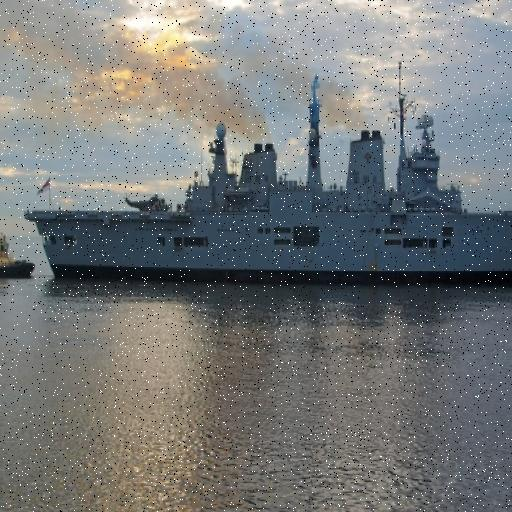Portanaves: (20, 53, 512, 295)
